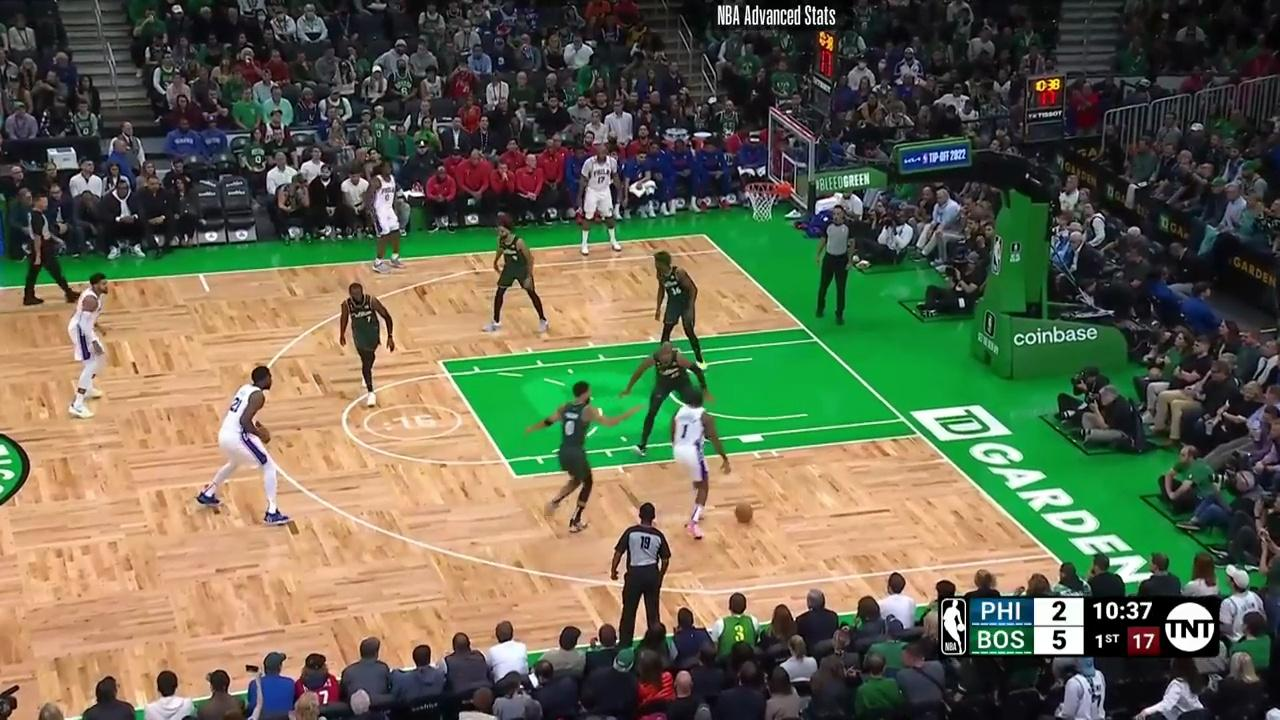Backboard: (764, 108, 814, 216)
Ball: (734, 504, 753, 523)
Basket: (739, 180, 781, 222)
Dribble: (737, 519, 751, 526)
Person: (523, 379, 635, 535), (194, 363, 296, 528), (663, 382, 731, 543), (483, 214, 551, 337), (334, 281, 398, 411), (644, 247, 707, 370), (619, 343, 688, 453), (66, 271, 113, 423), (574, 140, 625, 262), (362, 157, 407, 275)
Referee: (609, 501, 675, 642), (14, 191, 82, 305), (812, 204, 862, 325)
Shot Clock: (806, 28, 839, 102), (1026, 77, 1065, 135)
